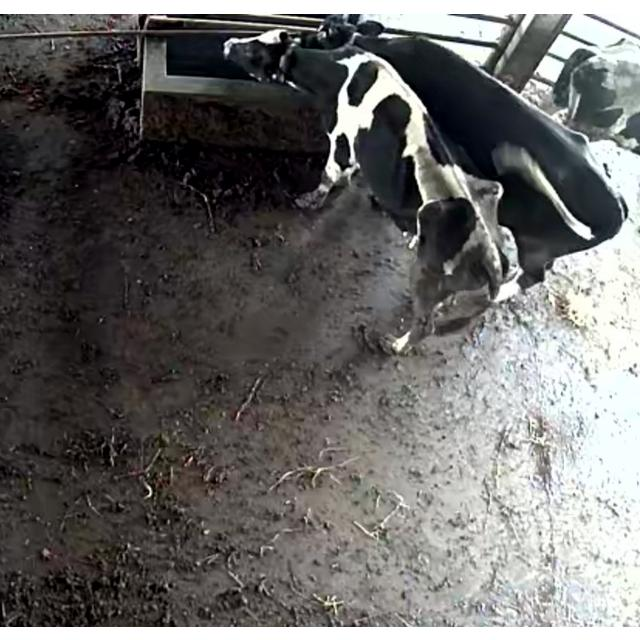drink: (202, 17, 316, 104), (304, 13, 416, 73)
